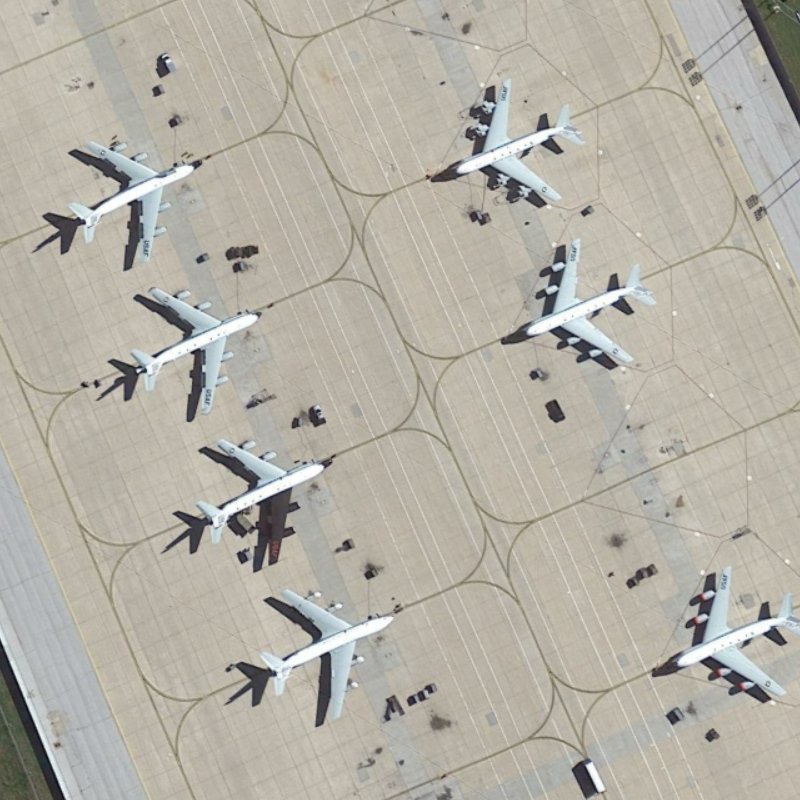A11: (645, 553, 799, 716), (496, 234, 663, 377), (249, 583, 397, 735), (60, 125, 213, 271), (186, 431, 341, 574), (432, 74, 588, 212), (121, 279, 264, 419)
